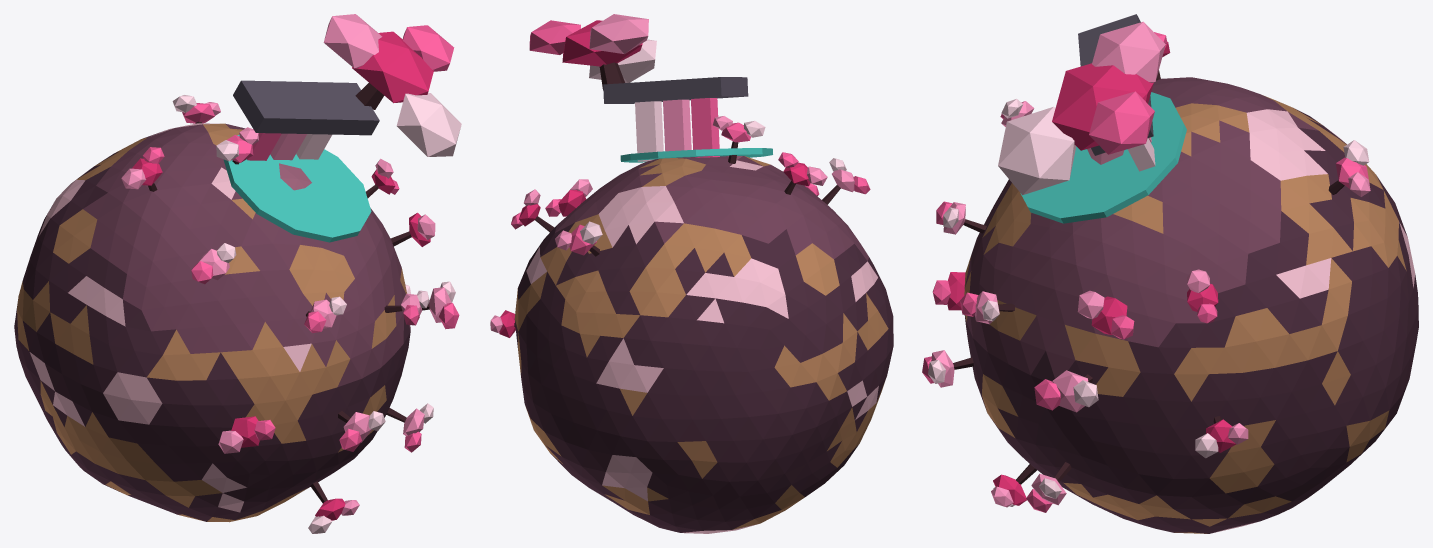
The model's file is Sakura_09.fbx.
3 renders of one model, left to right at view 1: azimuth 30°, elevation 25°; view 2: azimuth 150°, elevation 25°; view 3: azimuth 270°, elevation 25°, orthographic. The views are drawn at different scales.
Visible parts, largest first — view 1: Sakura_09; view 2: Sakura_09; view 3: Sakura_09.
Boxes of the visible parts, <box> form: Sakura_09: <box>14,14,461,533</box>; Sakura_09: <box>490,14,893,533</box>; Sakura_09: <box>922,14,1418,533</box>.
Bounding box in the file's own units: 6.68 × 8.06 × 6.61.
Materials: 1 (1 with a texture image).
